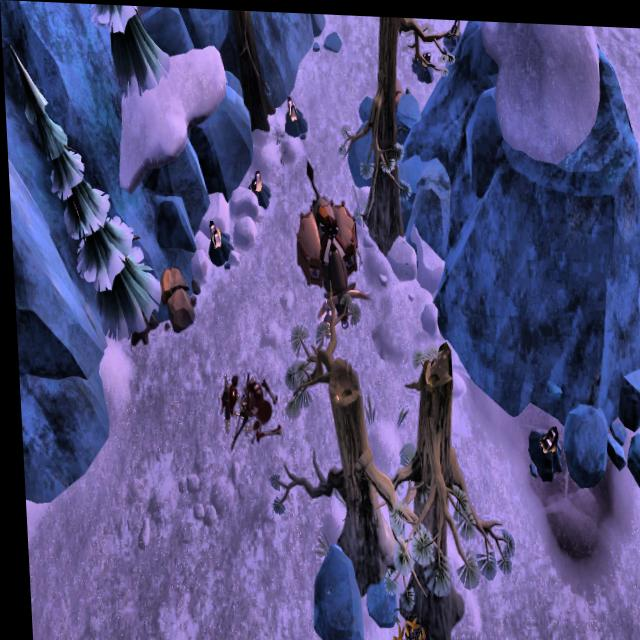enemy_factionUndead: (211, 363, 251, 442)
